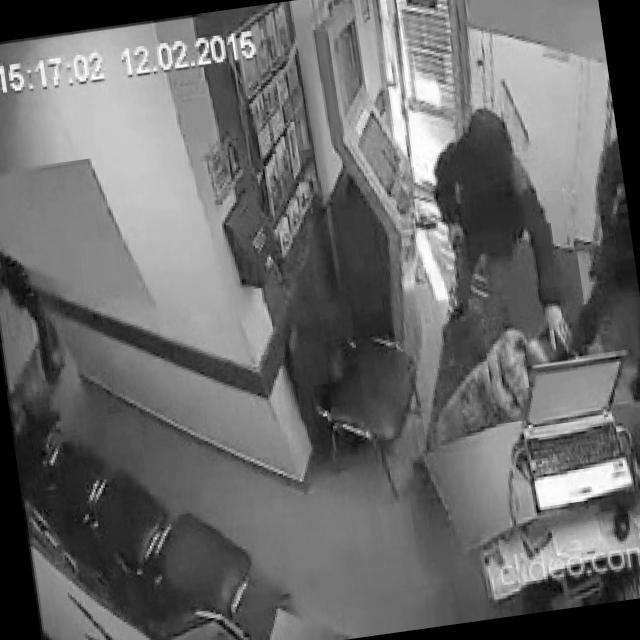gun: (450, 228, 469, 276)
person: (400, 317, 598, 510)
person with a gun: (422, 98, 575, 374)
